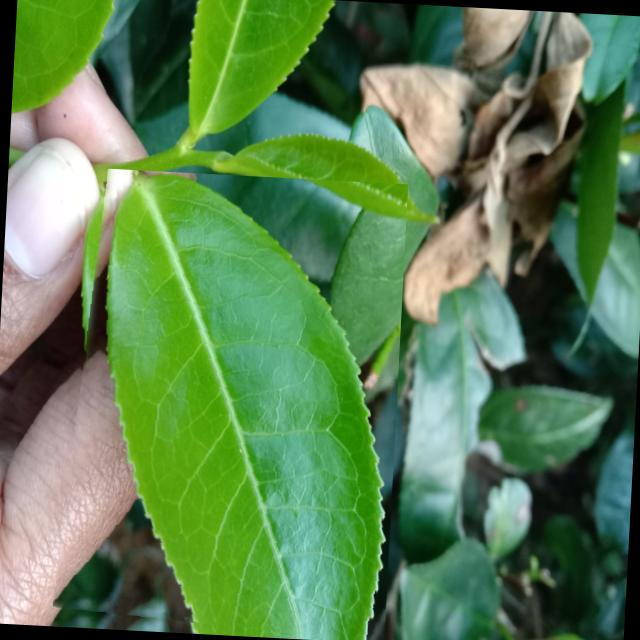Category C(4-7 days): (50, 167, 407, 640)
